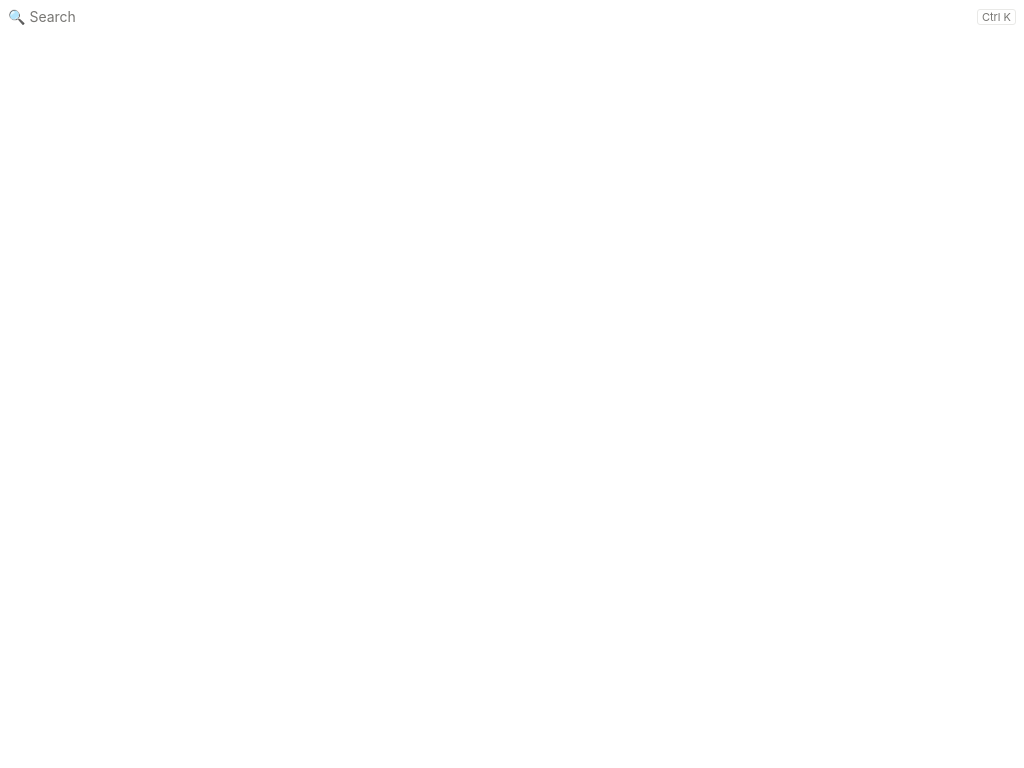
Scenario: SearchCommand › opens with Ctrl+K, searches and opens the chosen database row
The width and height of the screenshot is (1024, 768).
Press k
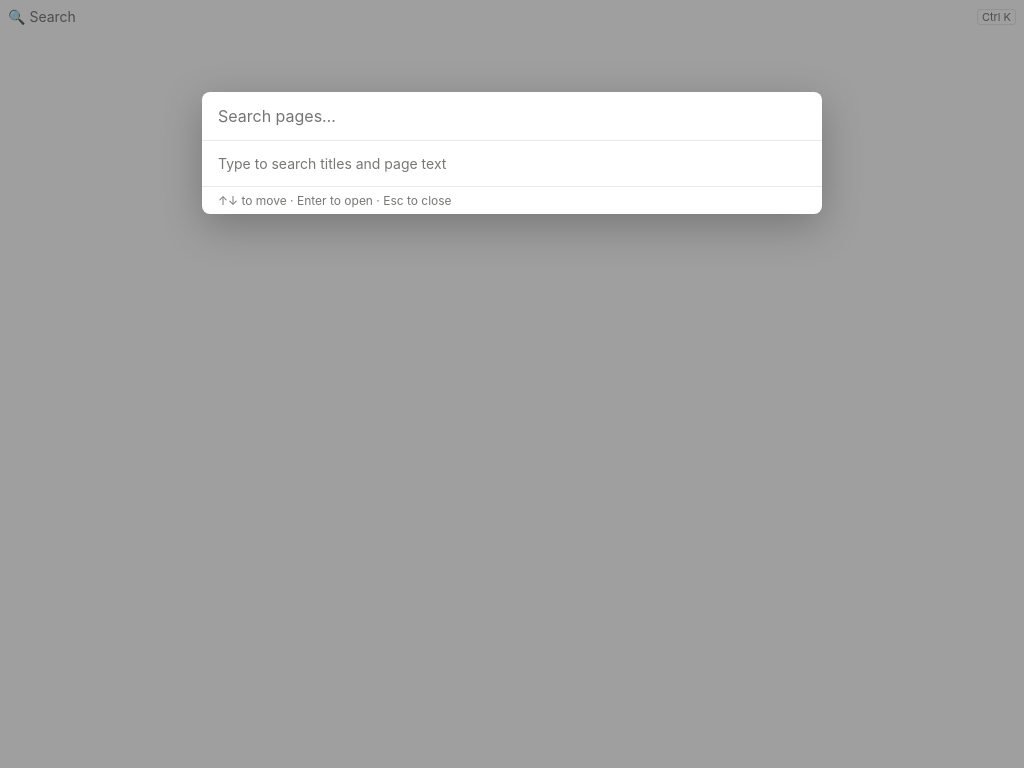
Type "wri te" into the dropdown.
click(512, 116); type("wri te")  # box [202, 92, 822, 140]
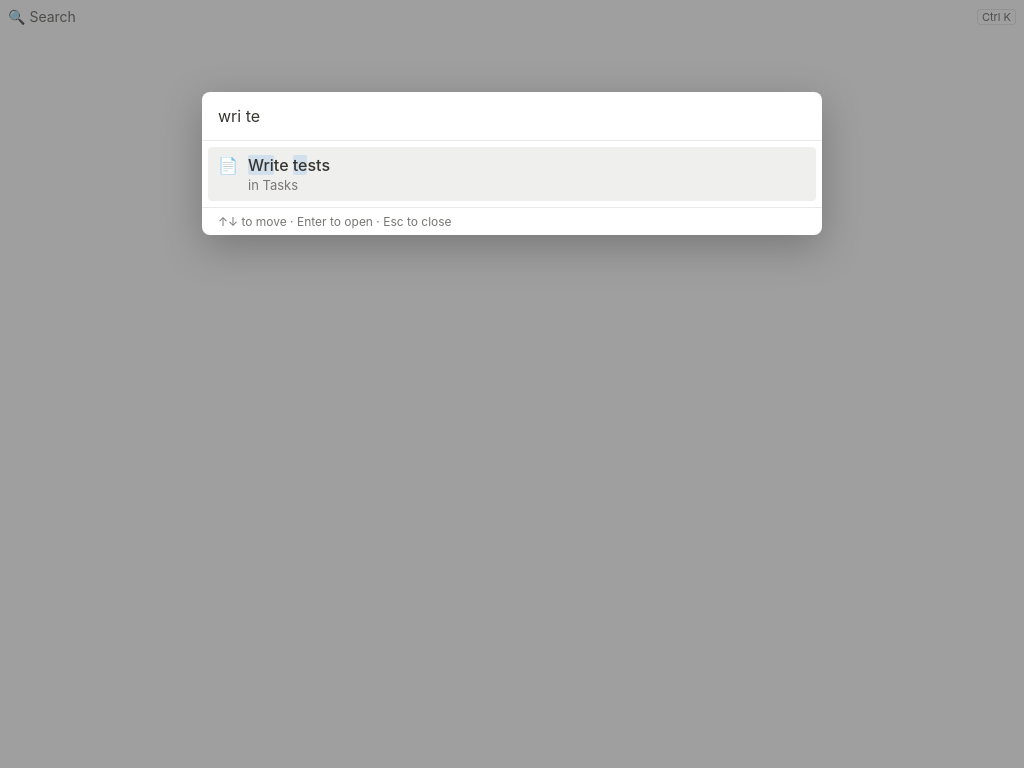
Expected: the text "in Tasks" is shown, [248, 177, 298, 193]
Press Enter in the dropdown, box [202, 92, 822, 140]
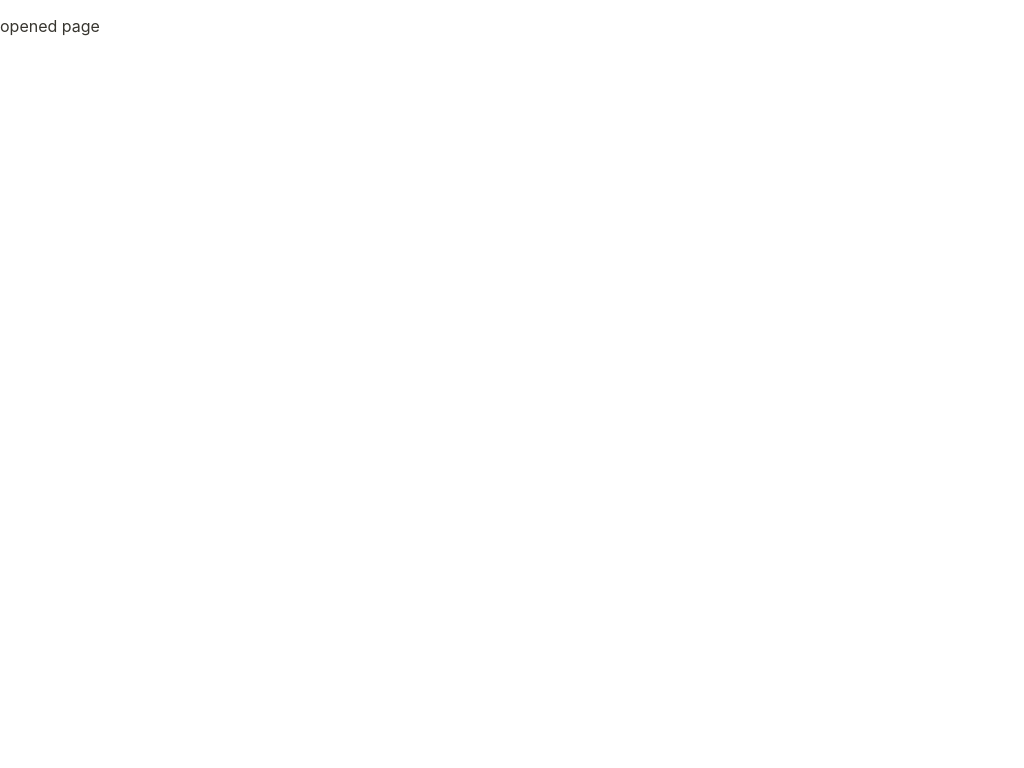
Expected: the dialog is gone
